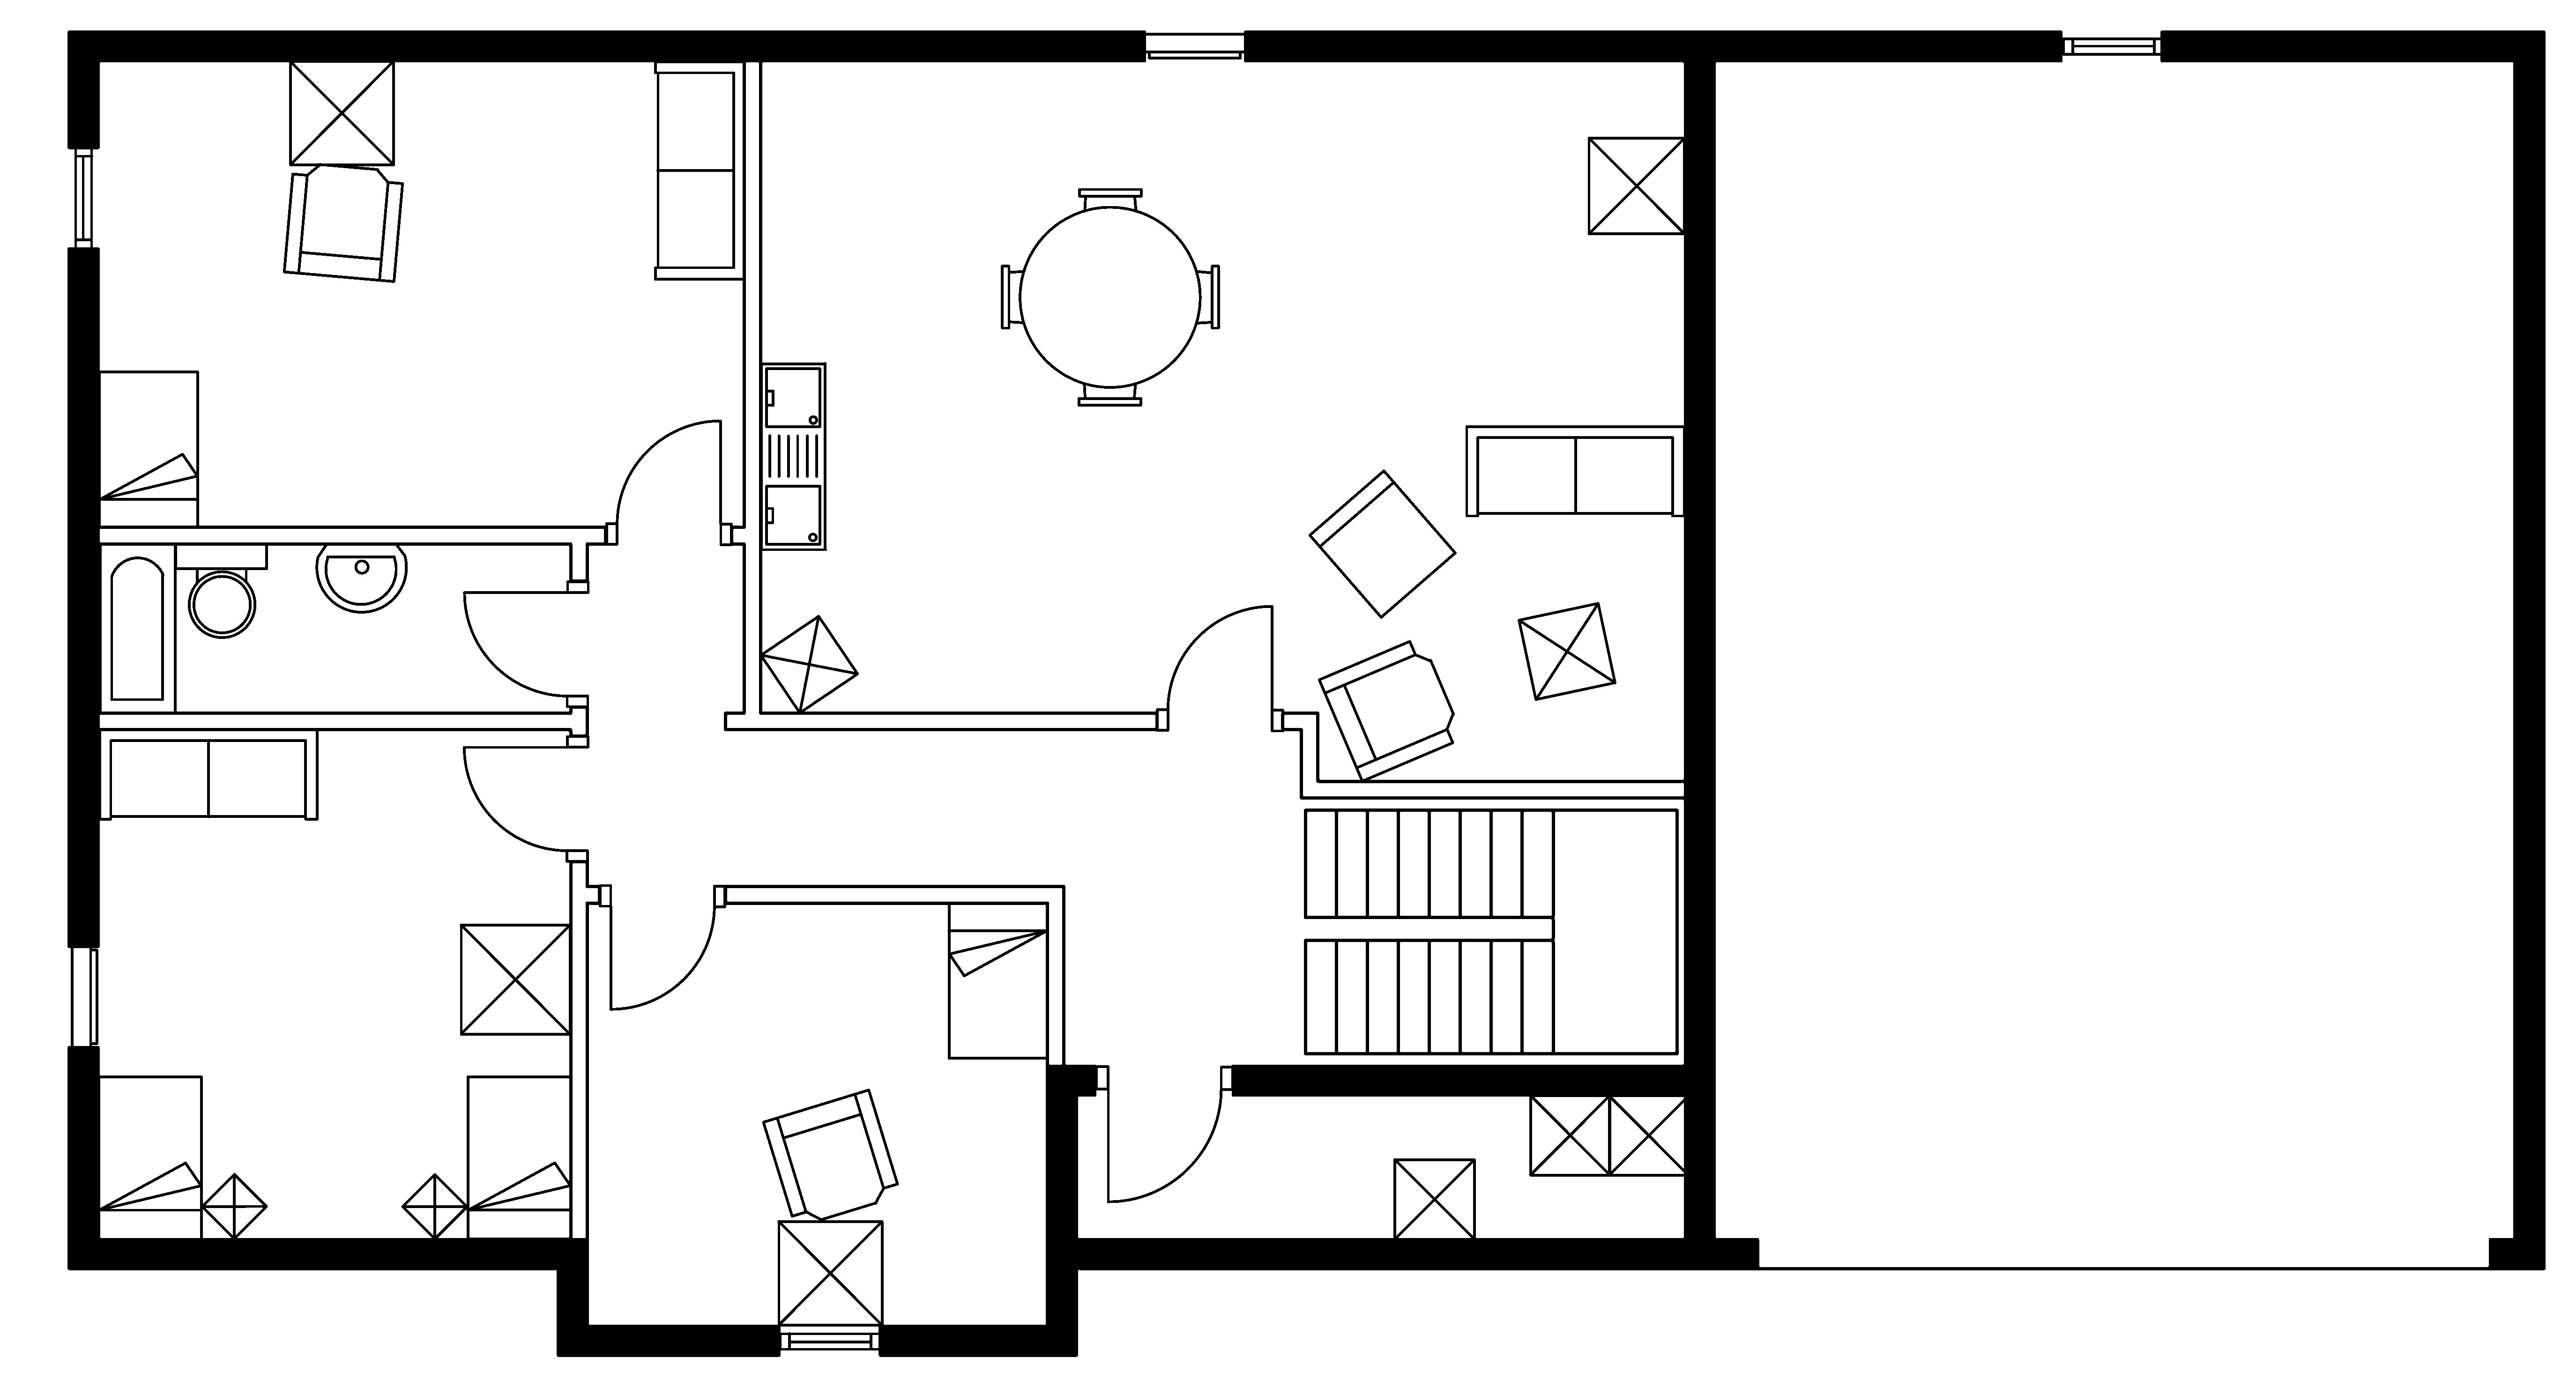armchair: (1317, 639, 1455, 782), (760, 1086, 899, 1221), (282, 162, 405, 284)
bed: (96, 1074, 203, 1240), (465, 1074, 572, 1240), (97, 369, 200, 530), (946, 900, 1049, 1059)
coffee_table: (458, 922, 572, 1035), (287, 58, 395, 166), (776, 1220, 883, 1327), (758, 613, 859, 714), (1517, 601, 1618, 702), (1587, 135, 1686, 236), (1527, 1093, 1613, 1177), (1607, 1093, 1691, 1177), (1392, 1156, 1476, 1240), (400, 1172, 470, 1240), (200, 1172, 268, 1240)
large_sink: (173, 541, 268, 639)
large_sofa: (1464, 424, 1686, 518), (653, 60, 746, 282), (97, 728, 319, 820)
round_table: (999, 186, 1220, 407)
small_sink: (316, 541, 407, 613)
small_sofa: (1307, 468, 1457, 618)
tub: (97, 541, 178, 714)
twin_sink: (758, 360, 827, 552)
